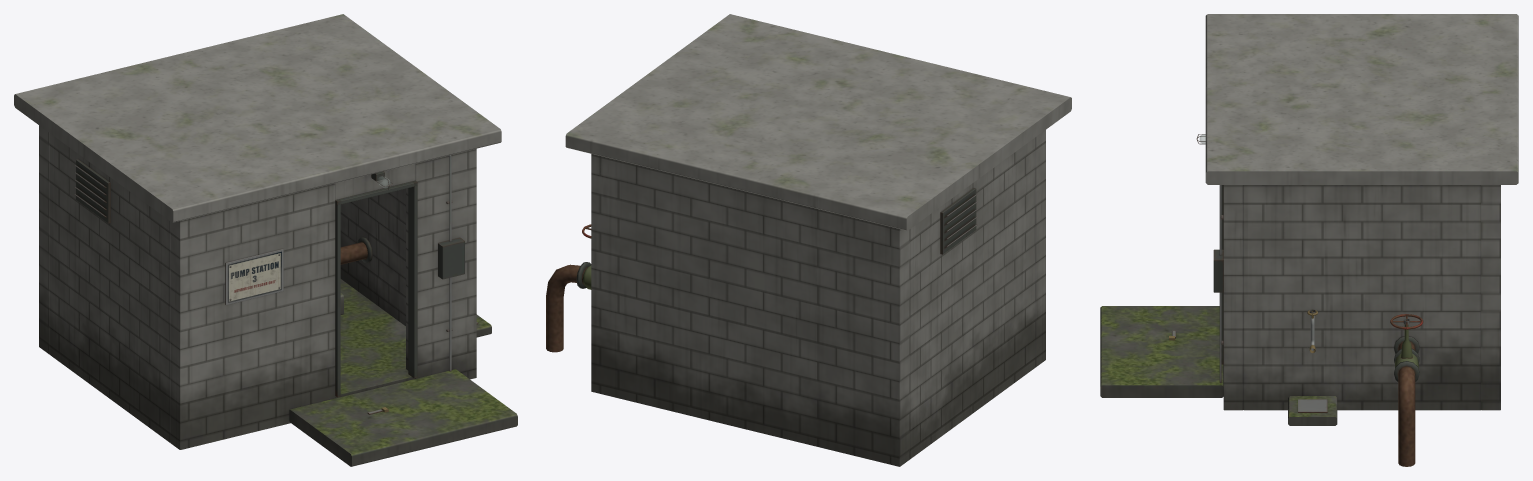
The model's file is pumphouse.glb.
The picture shows the model from 3 angles, left to right: view 1: azimuth 30°, elevation 25°; view 2: azimuth 150°, elevation 25°; view 3: azimuth 270°, elevation 25°; orthographic projection. The views are drawn at different scales.
Parts seen in each view (by area): view 1: pumphouse; view 2: pumphouse; view 3: pumphouse.
Part boxes in pixels (bbox=[...]): pumphouse: bbox=[14, 14, 517, 466]; pumphouse: bbox=[546, 14, 1071, 466]; pumphouse: bbox=[1100, 14, 1518, 466].
Size of the model in its own units: 4.61 by 2.89 by 4.23.
2 materials, 1 textured.
